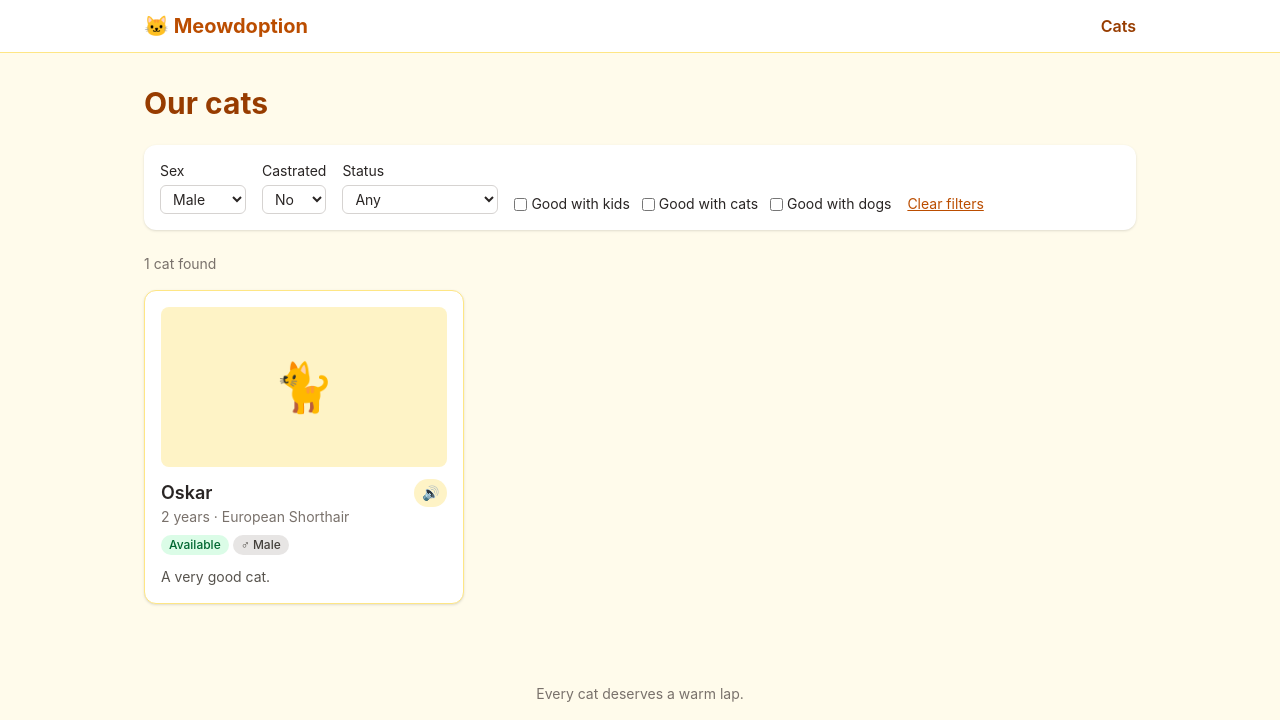
Scenario: CatListPage › clears filters
The image size is (1280, 720).
Check: the element "Oskar" is shown, box x1=144 y1=290 x2=464 y2=604
Click the button "Clear filters" at (946, 204), box x1=907 y1=194 x2=984 y2=214
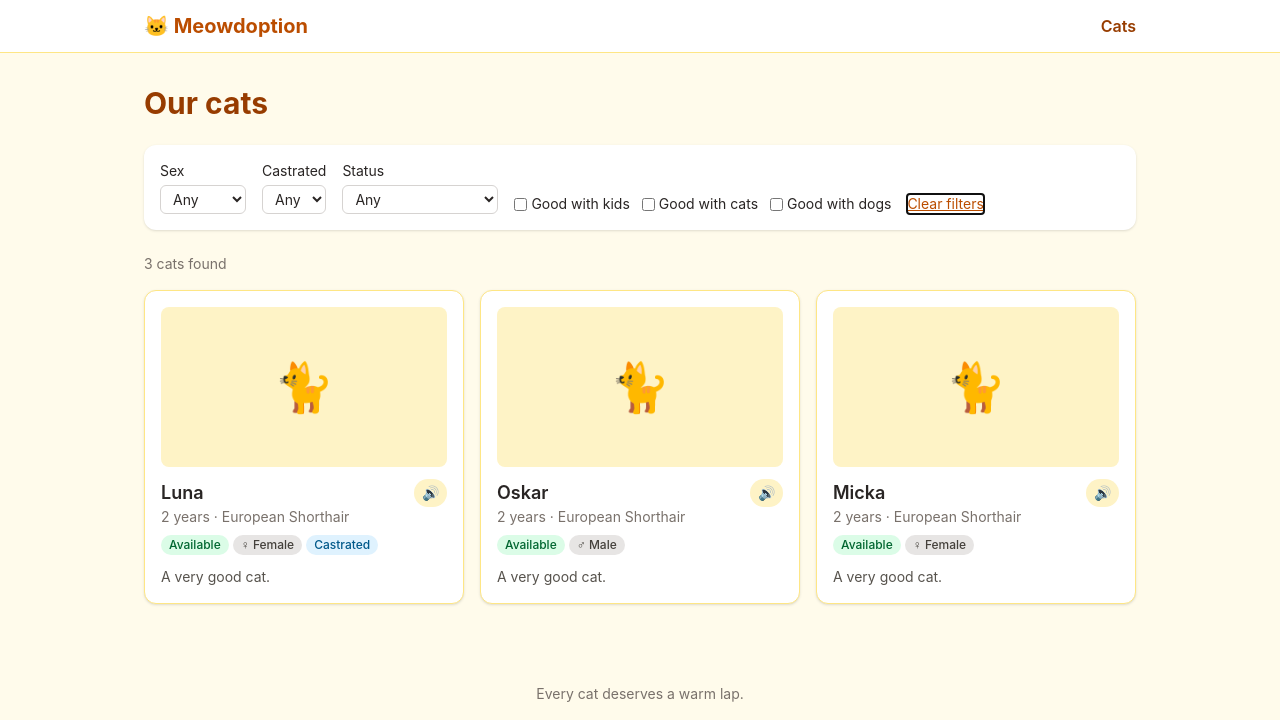
Check: the element "Luna" is shown, box x1=144 y1=290 x2=464 y2=604
